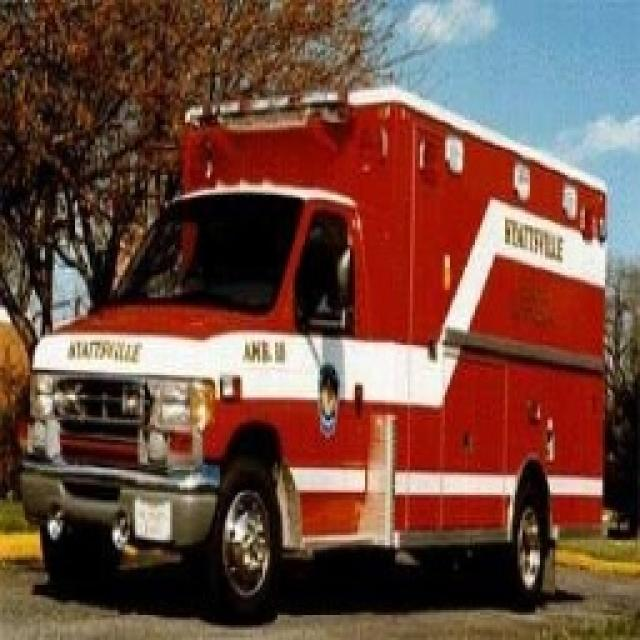emergency-vehicle: (22, 90, 607, 606)
